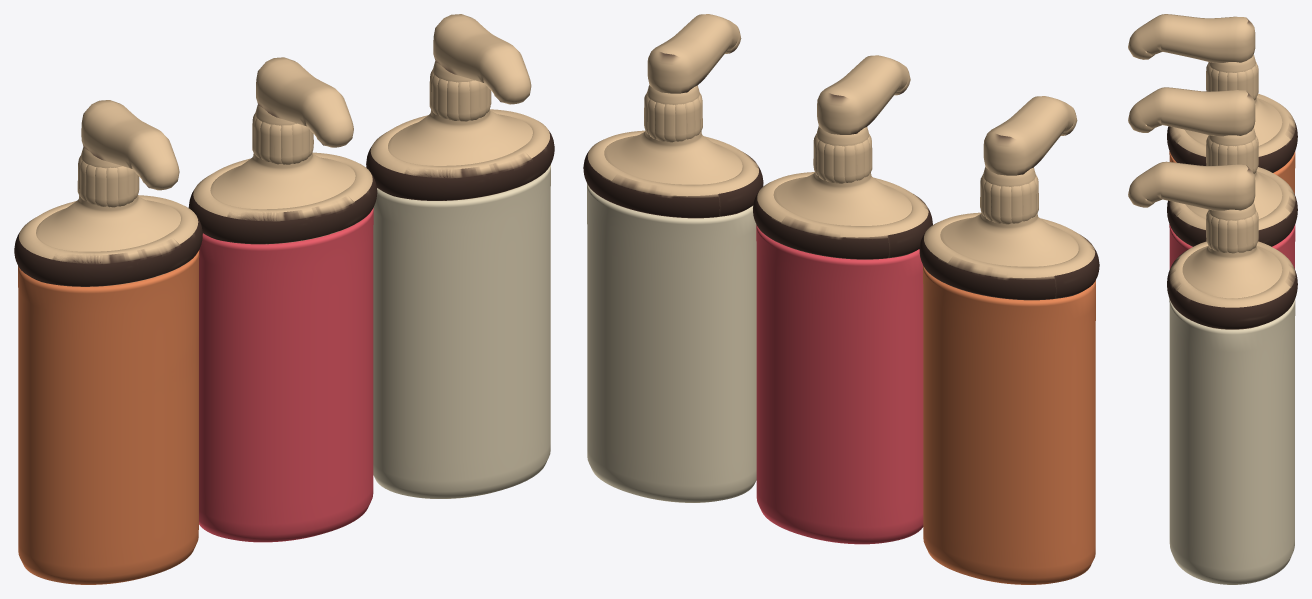
Rendered from Pump Station Model.fbx.
3 renders of one model, left to right at view 1: azimuth 30°, elevation 25°; view 2: azimuth 150°, elevation 25°; view 3: azimuth 270°, elevation 25°, orthographic. The views are drawn at different scales.
Visible parts, largest first — view 1: Pumps Inverted Normals; view 2: Pumps Inverted Normals; view 3: Pumps Inverted Normals.
Boxes of the visible parts, x1,y1,x2,y2 form: Pumps Inverted Normals: (14, 14, 554, 584); Pumps Inverted Normals: (583, 14, 1099, 584); Pumps Inverted Normals: (1128, 14, 1297, 584).
Bounding box in the file's own units: 66.62 × 55.01 × 21.72.
Materials: 1 (1 with a texture image).
